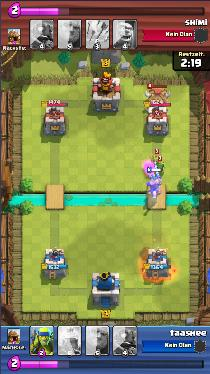EHealSpirit: (146, 163, 163, 196)
ETesla: (144, 87, 172, 105)
OEVWizard: (156, 160, 166, 172), (151, 156, 160, 165)
